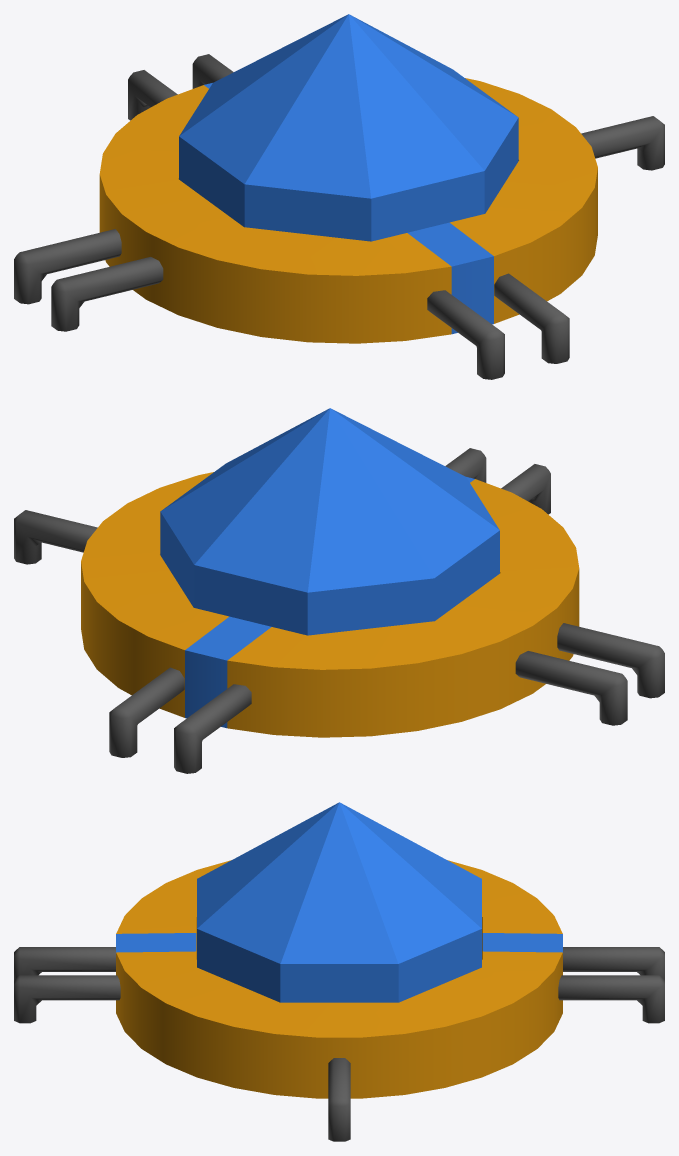
The model's file is LP_Receiver.fbx.
3 renders of one model, top to bottom at view 1: azimuth 30°, elevation 25°; view 2: azimuth 150°, elevation 25°; view 3: azimuth 270°, elevation 25°, orthographic. The views are drawn at different scales.
Parts seen in each view (by area): view 1: Cylinder.005; view 2: Cylinder.005; view 3: Cylinder.005.
Boxes of the visible parts, box(x1,y1,x2,y2) form: Cylinder.005: box(14, 14, 664, 379); Cylinder.005: box(14, 408, 664, 773); Cylinder.005: box(14, 802, 664, 1141).
Bounding box in the file's own units: 2.9 × 0.9931 × 2.9.
